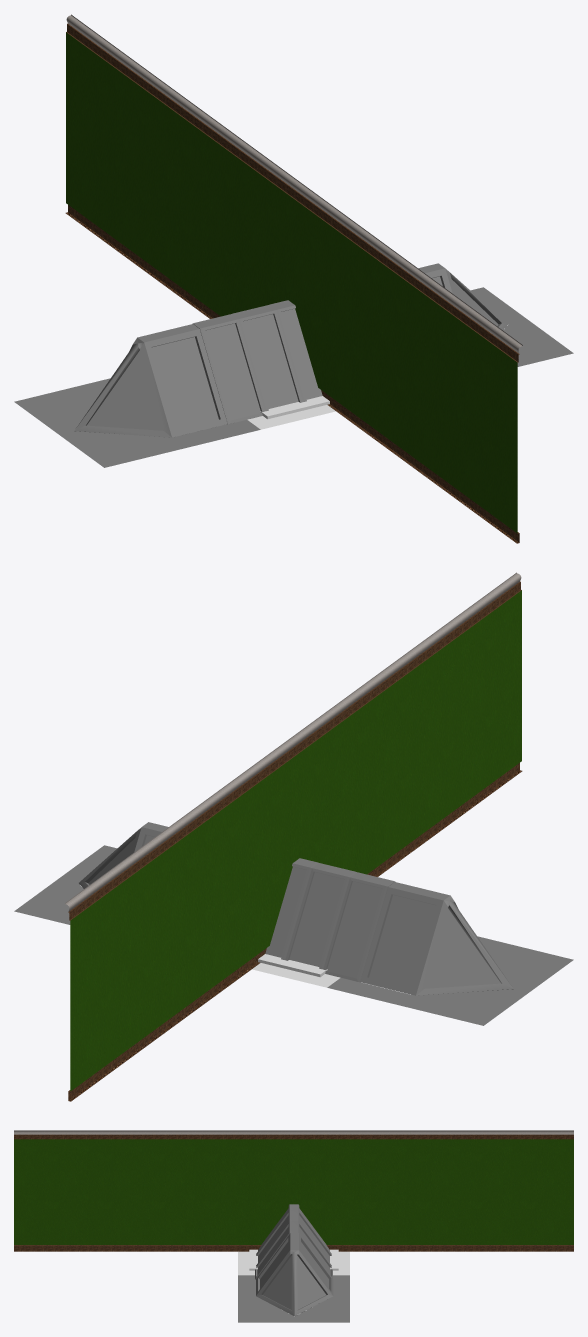
The model's file is Set01-Gallery.fbx.
3 renders of one model, top to bottom at view 1: azimuth 30°, elevation 25°; view 2: azimuth 150°, elevation 25°; view 3: azimuth 270°, elevation 25°, orthographic. The views are drawn at different scales.
Parts seen in each view (by area): view 1: WallA, End001, Mirror006, RoofRepeat; view 2: WallA, End001, Mirror006, RoofRepeat; view 3: WallA, End001, Mirror006, RoofRepeat.
Part boxes in pixels (x1=…): WallA: x1=65, y1=14, x2=522, y2=543; End001: x1=14, y1=263, x2=573, y2=467; Mirror006: x1=87, y1=276, x2=498, y2=430; RoofRepeat: x1=247, y1=396, x2=335, y2=429; WallA: x1=65, y1=572, x2=522, y2=1101; End001: x1=14, y1=822, x2=573, y2=1025; Mirror006: x1=88, y1=835, x2=500, y2=988; RoofRepeat: x1=252, y1=954, x2=340, y2=987; WallA: x1=14, y1=1130, x2=573, y2=1251; End001: x1=238, y1=1204, x2=349, y2=1322; Mirror006: x1=257, y1=1208, x2=330, y2=1309; RoofRepeat: x1=238, y1=1249, x2=349, y2=1275.
Size of the model in its own units: 30 by 12.08 by 50.
